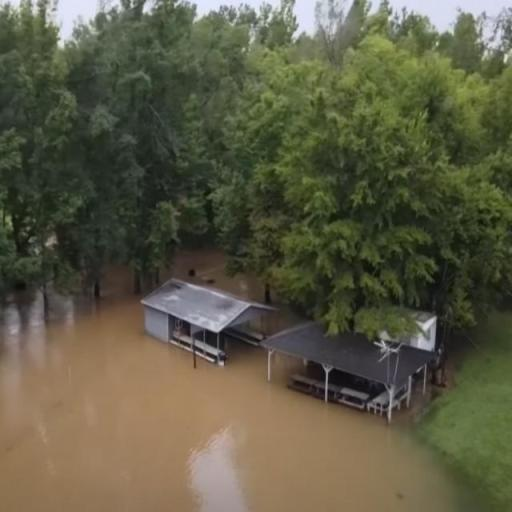flood: (0, 268, 474, 512), (164, 250, 263, 300)
house: (272, 321, 442, 420), (138, 272, 284, 374)
